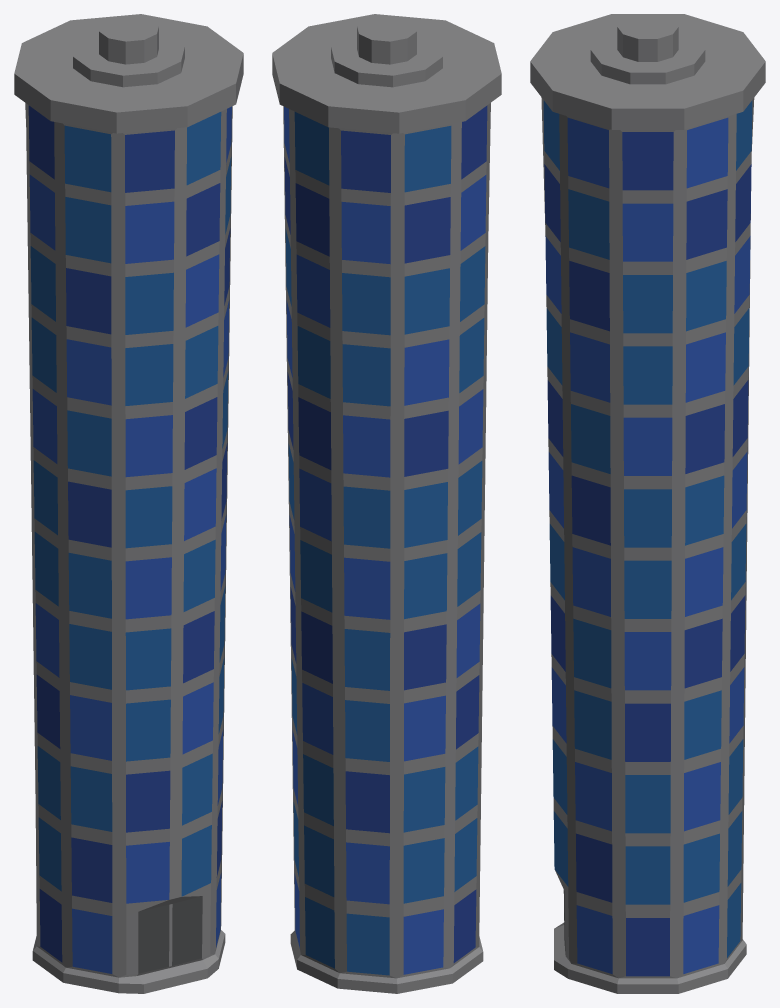
File: HighHouse 2.3.fbx
The picture shows the model from 3 angles, left to right: view 1: azimuth 30°, elevation 25°; view 2: azimuth 150°, elevation 25°; view 3: azimuth 270°, elevation 25°; orthographic projection.
Parts seen in each view (by area): view 1: HighHouse_2_03; view 2: HighHouse_2_03; view 3: HighHouse_2_03.
Part boxes in pixels (x1,y1,x2,y2): HighHouse_2_03: (14, 14, 243, 993); HighHouse_2_03: (272, 14, 501, 993); HighHouse_2_03: (530, 14, 765, 993).
Size of the model in its own units: 474 by 2163 by 498.
